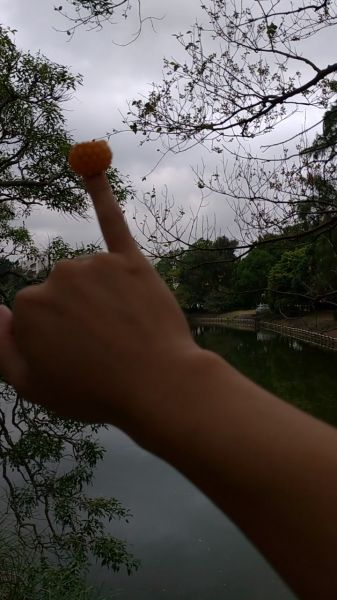eggs: (66, 141, 116, 176)
